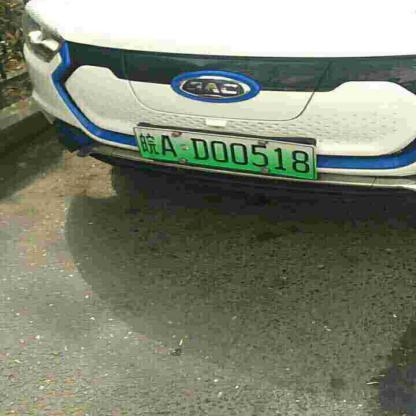lp: (134, 128, 313, 179)
